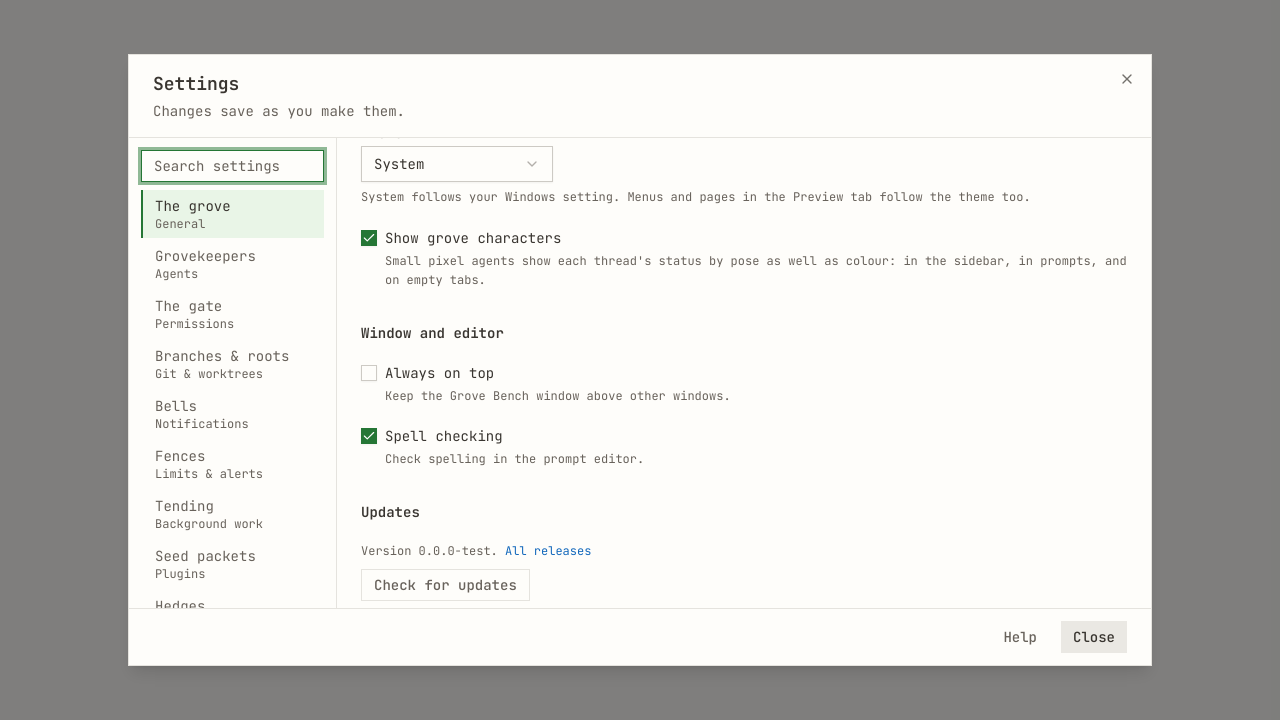
Test: SettingsPanel auto-save › saves a change straight away, with no Save button
(page scrolled)
What coordinates should you click on to do the following:
click the checkbox named "Always on top" next to "Always on top"
I would click on:
 (369, 372)
Its box is x1=361 y1=364 x2=377 y2=380.
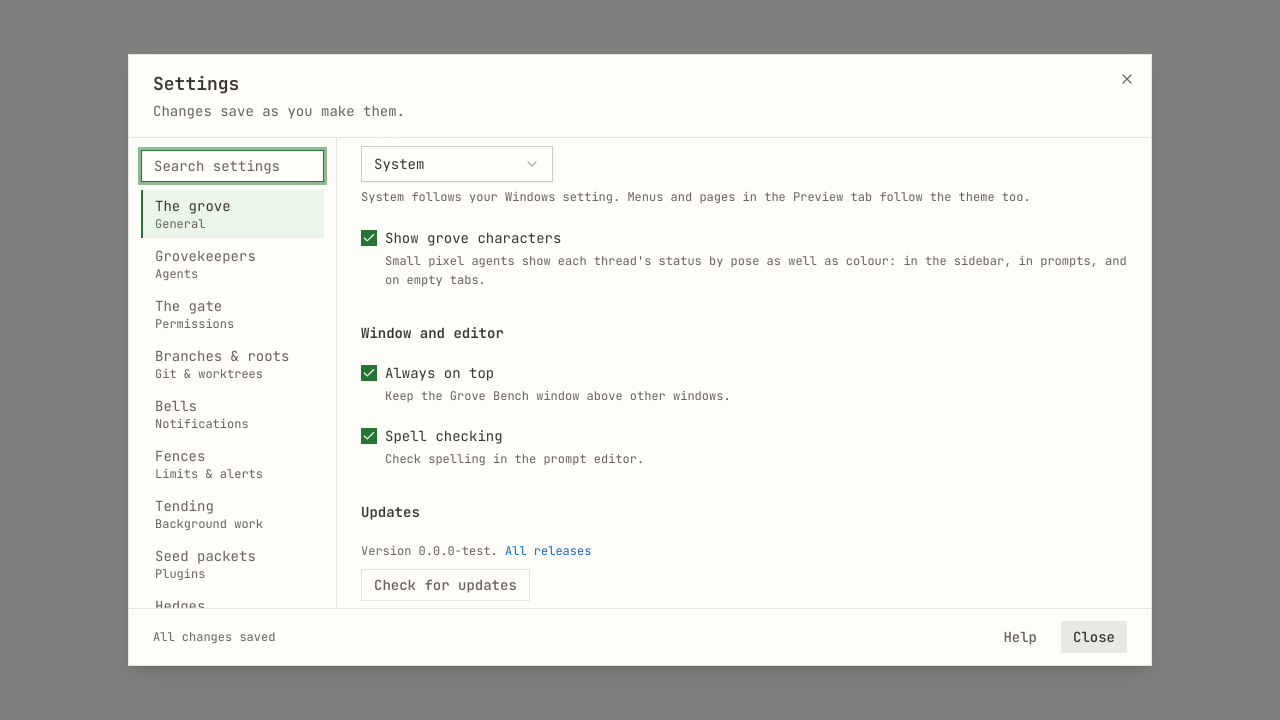
Expected: the text "All changes saved" is shown, x1=153 y1=629 x2=275 y2=645
